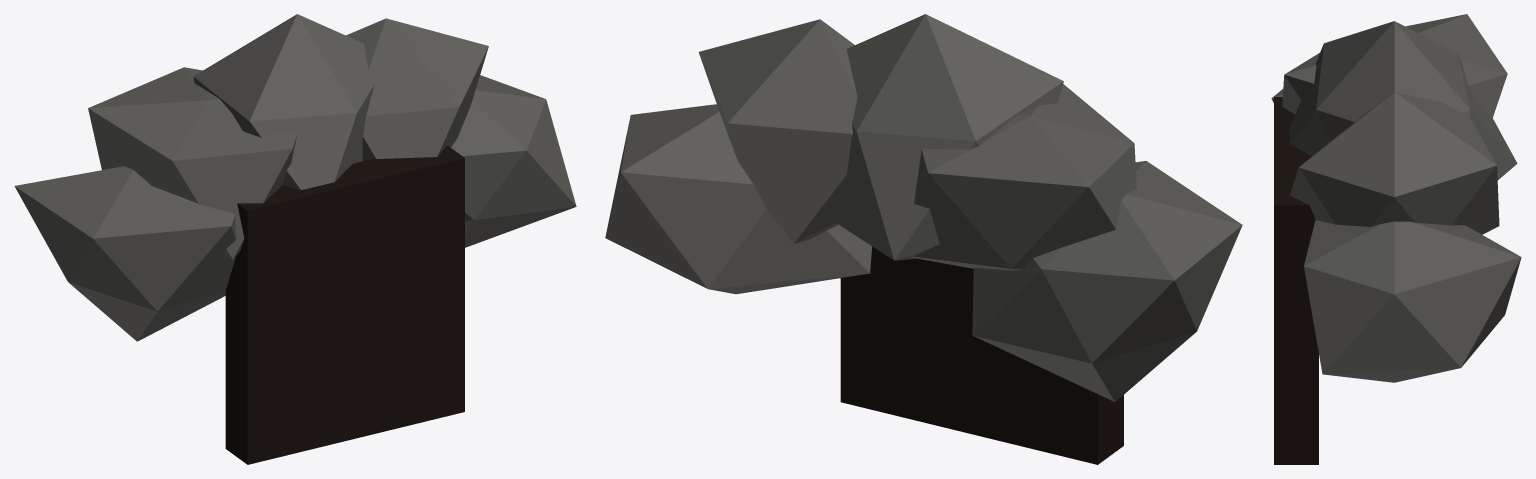
File: cave_entrance.glb
The picture shows the model from 3 angles, left to right: view 1: azimuth 30°, elevation 25°; view 2: azimuth 150°, elevation 25°; view 3: azimuth 270°, elevation 25°; orthographic projection. The views are drawn at different scales.
Parts seen in each view (by area): view 1: cave_entrance; view 2: cave_entrance; view 3: cave_entrance.
Part boxes in pixels (x1=…): cave_entrance: x1=14, y1=14, x2=576, y2=464; cave_entrance: x1=605, y1=14, x2=1242, y2=464; cave_entrance: x1=1271, y1=14, x2=1521, y2=464.
Bounding box in the file's own units: 3.88 × 2.85 × 1.66.
1 material, 1 textured.
